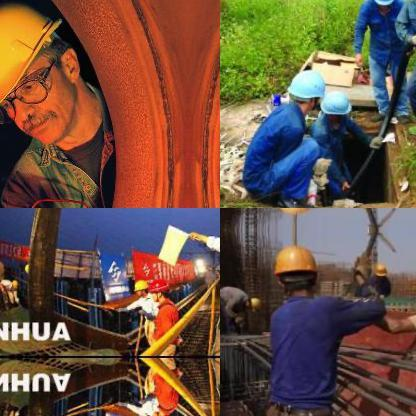Helmet: (0, 0, 109, 175), (272, 242, 322, 300), (287, 66, 323, 112), (320, 89, 350, 123), (146, 274, 170, 304), (242, 291, 262, 311), (130, 278, 148, 298), (370, 257, 388, 277), (145, 405, 172, 415), (371, 0, 396, 8), (129, 411, 150, 415)
